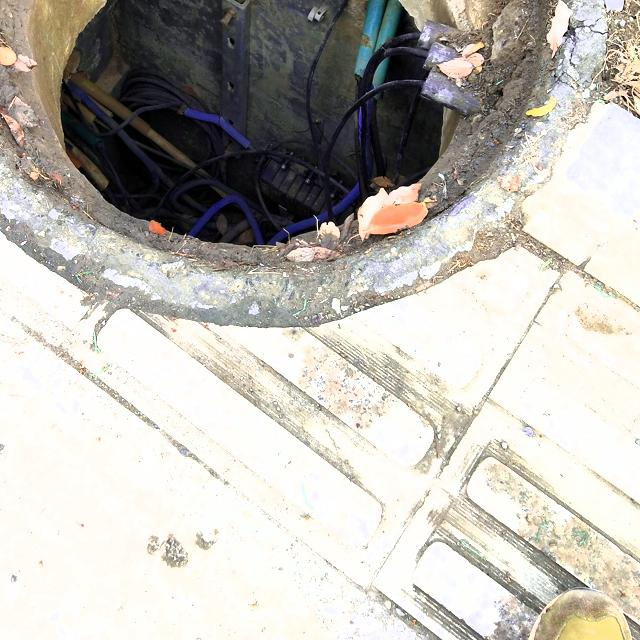uncovered: (0, 0, 599, 327)
